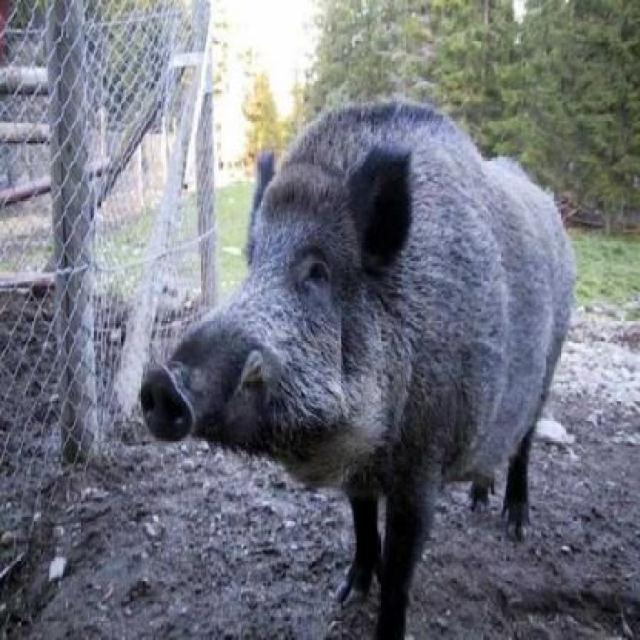pig: (131, 71, 612, 639)
